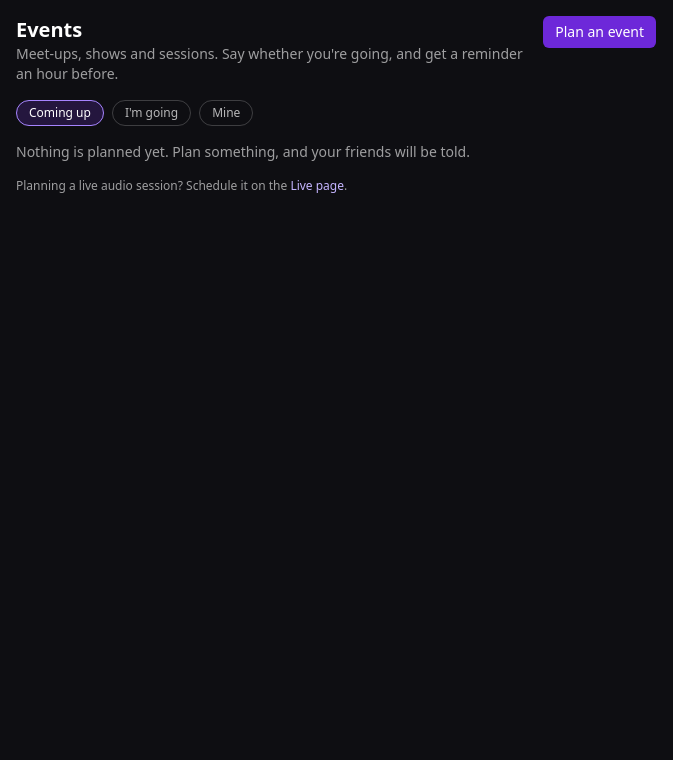
Test: EventsPage › plans an event and shows it in the list
Click the button "Plan an event": {"x": 600, "y": 32} [543, 16, 656, 48]
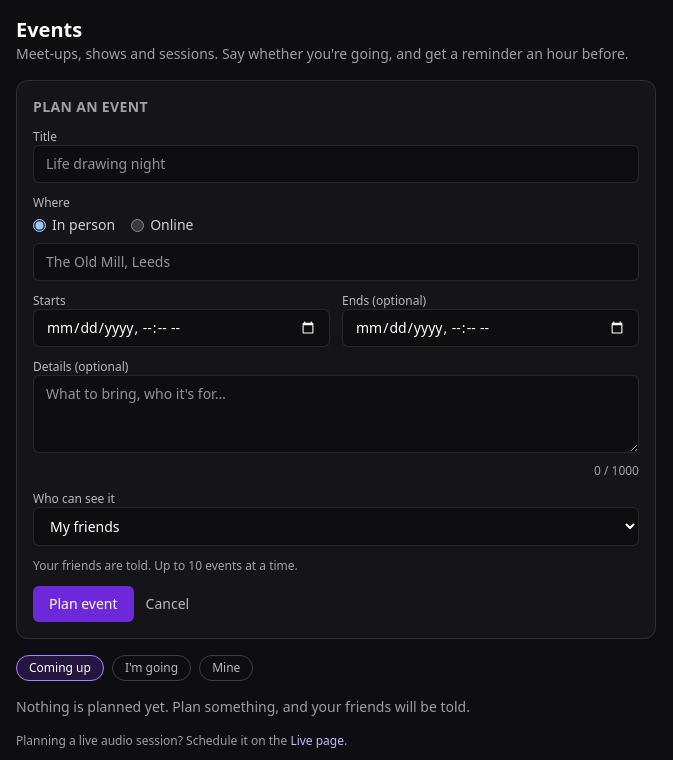
In the field labelled "Title": {"x": 336, "y": 164} [33, 145, 639, 183], type "My new event"
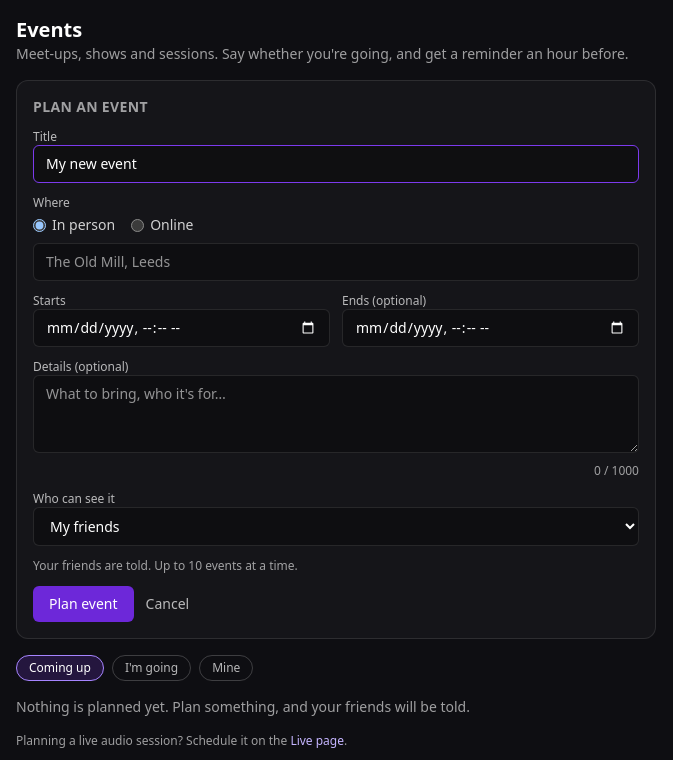
In the field named "Place": {"x": 336, "y": 262} [33, 243, 639, 281], type "Cafe"
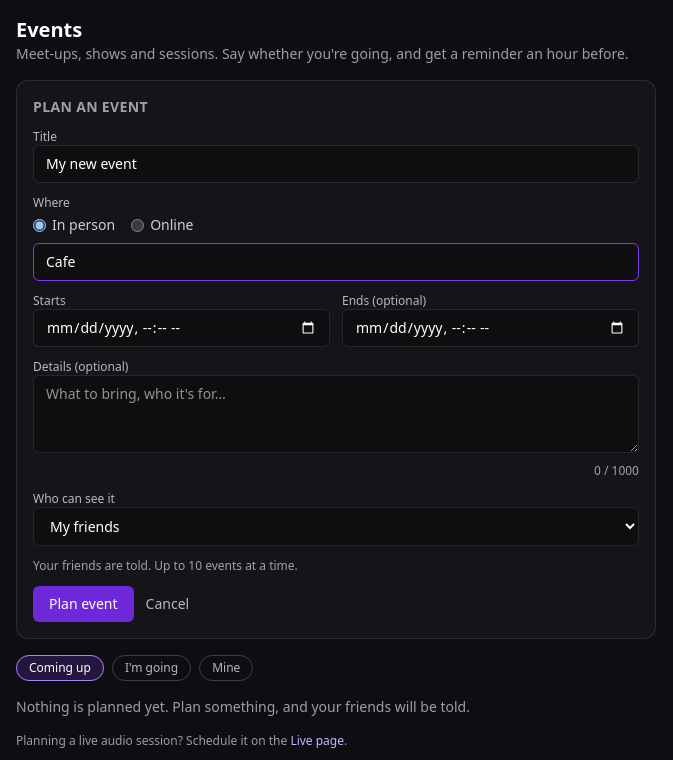
In the field labelled "Starts": {"x": 182, "y": 328} [33, 309, 330, 347], type "2030-05-04T19:30"
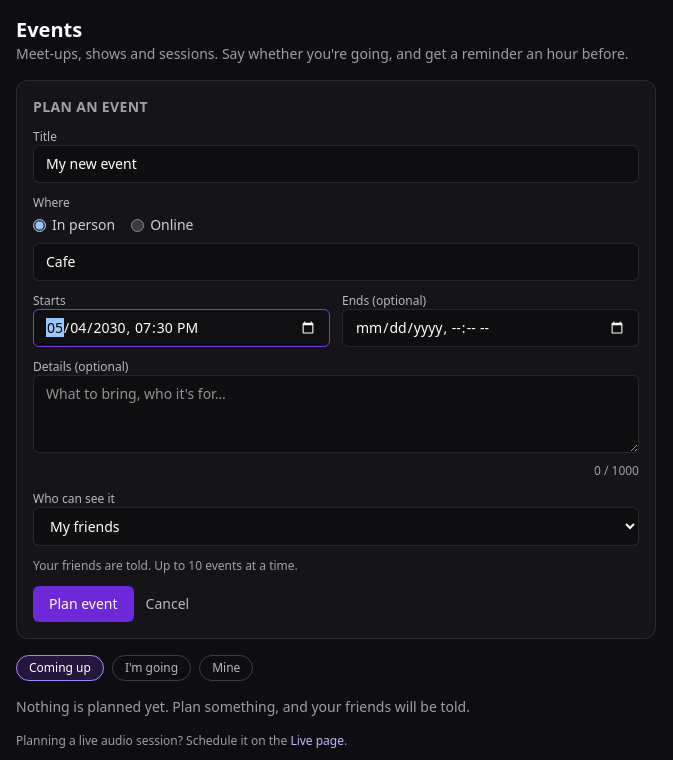
Click the button "Plan event": {"x": 83, "y": 604} [33, 586, 134, 622]
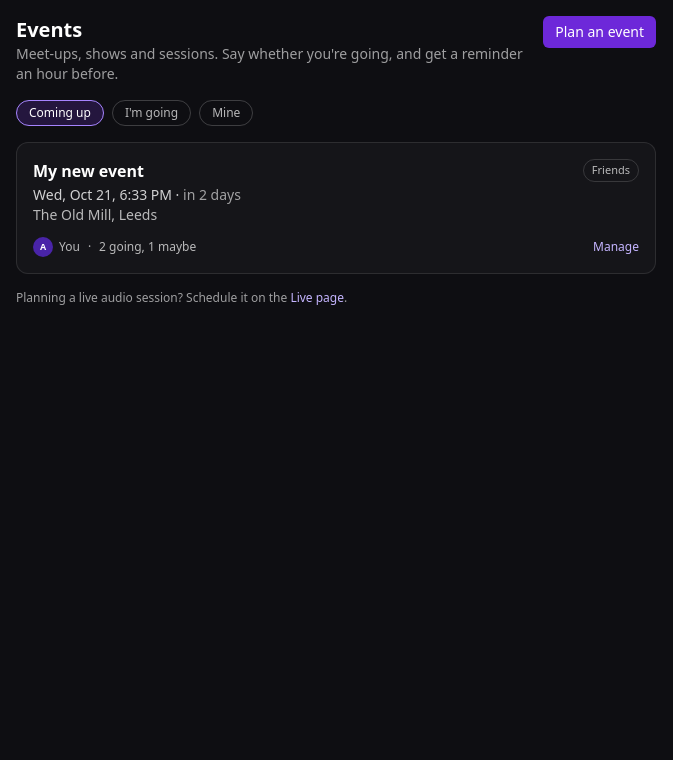
Result: the link "My new event" is shown at [33, 160, 144, 182]
